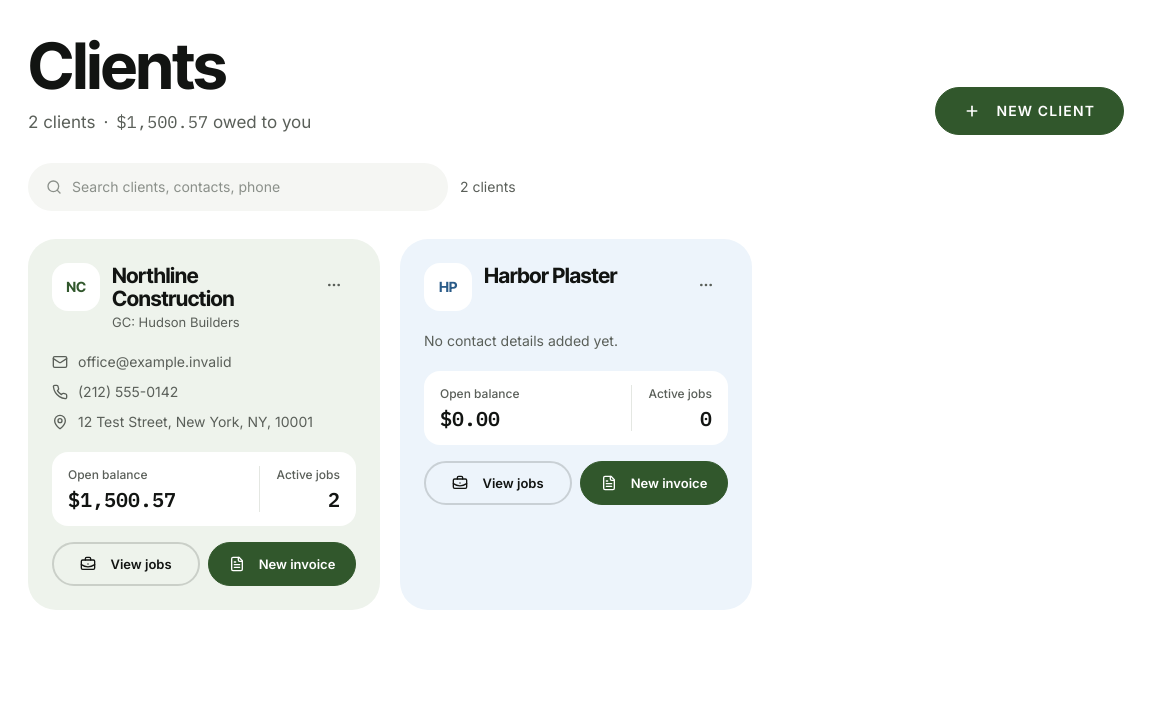
it: Clients redesign › prefills edit, keeps field errors and edits on save failure, then persists the correction
This screenshot has width=1152, height=720.
Expected: the element with test id "row-client-client-1" is shown, x1=28 y1=239 x2=380 y2=610
Click the button named "Actions for Northline Construction" at (334, 285), box x1=312 y1=263 x2=356 y2=307
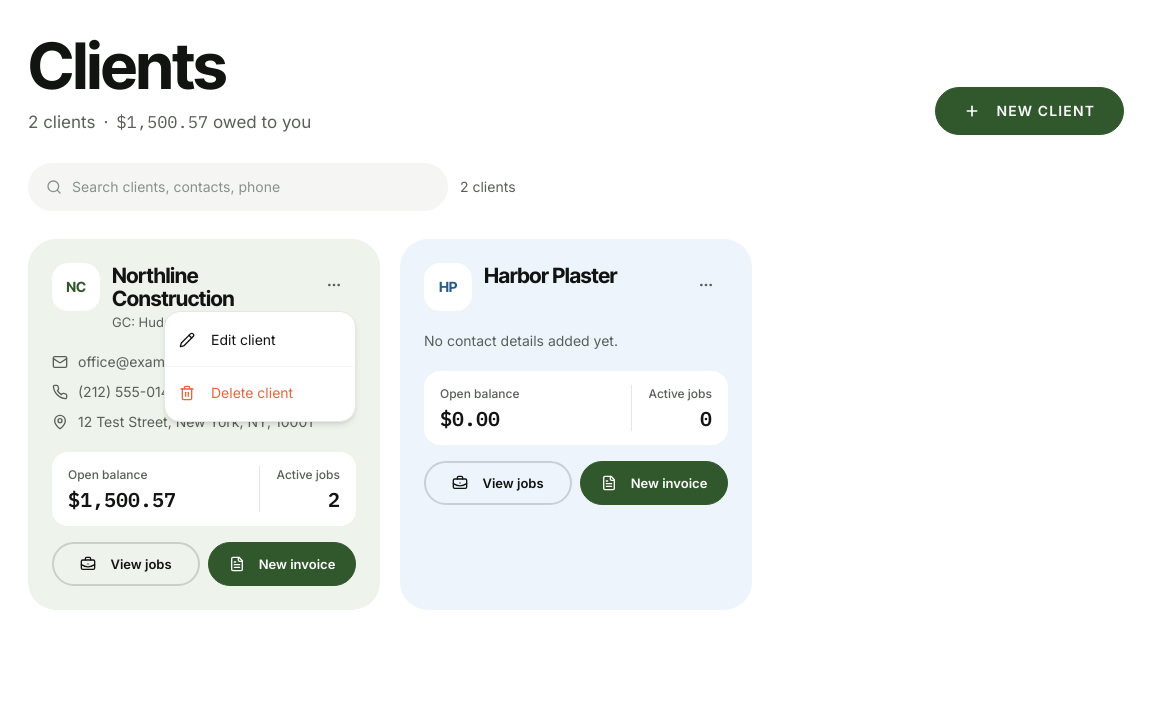
Click the menu item with test id "button-edit-client-client-1" at (227, 340), box x1=179 y1=331 x2=276 y2=348
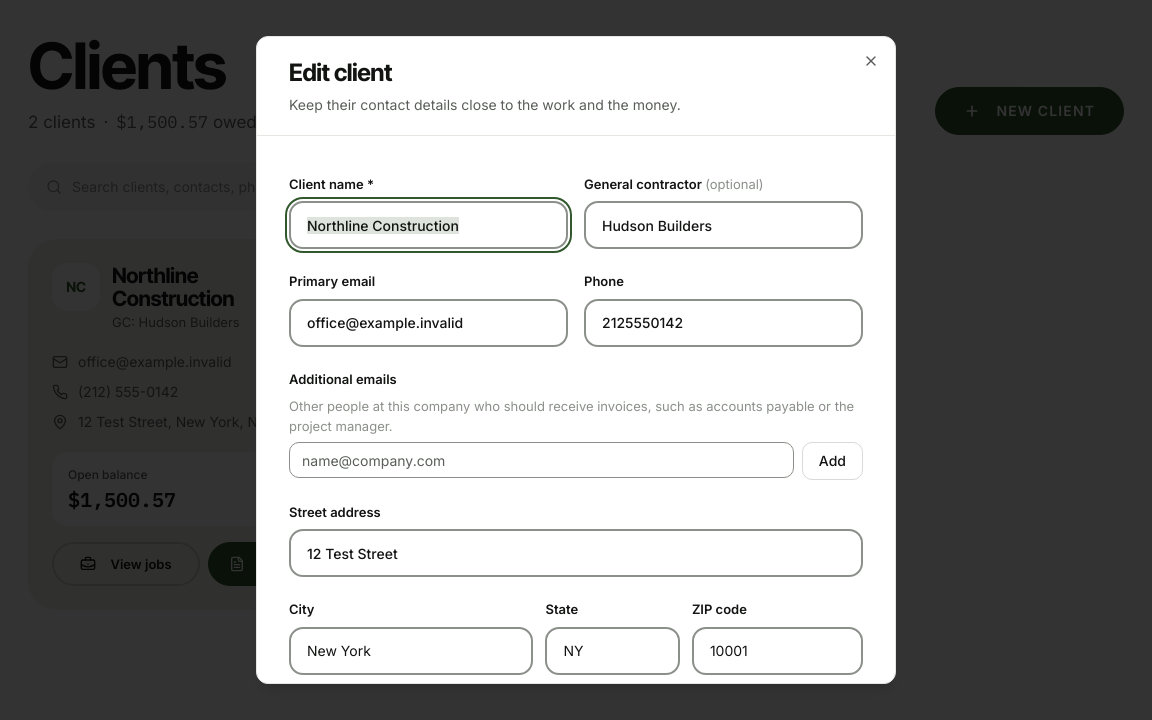
Result: the field with test id "input-client-name" holds "Northline Construction"
Replace the text in the field with test id "input-client-name" with "Northline Updated" at (428, 225), box x1=289 y1=201 x2=568 y2=249
(page scrolled)
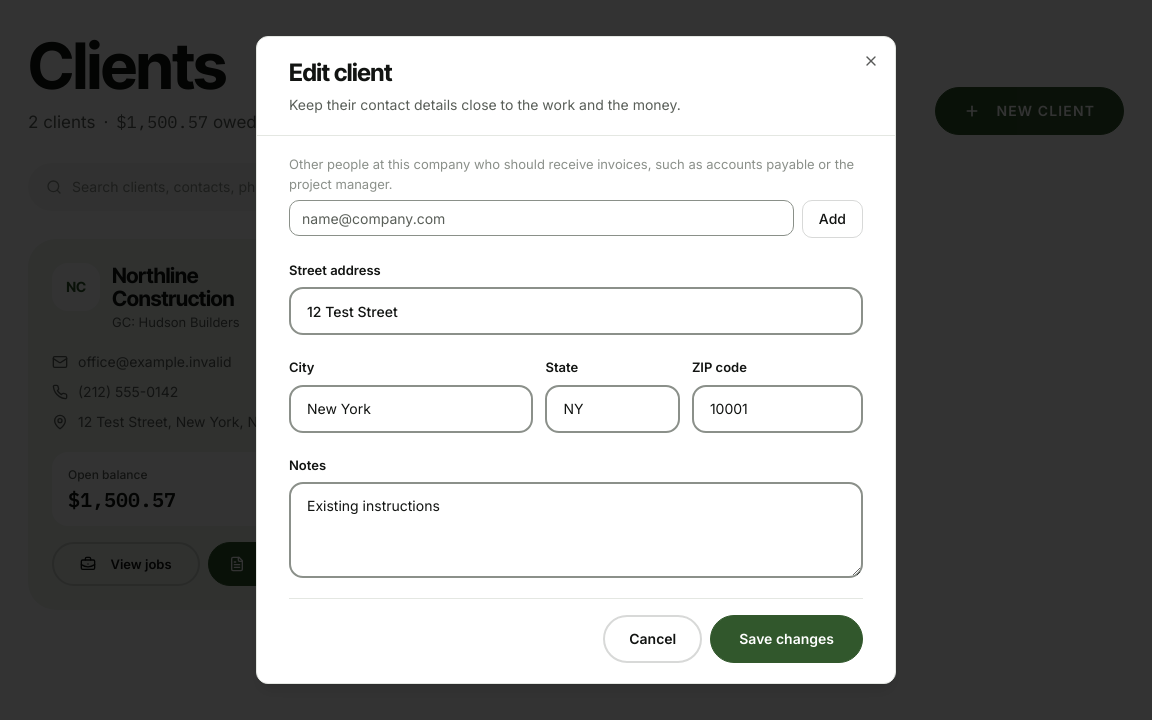
Click the button with test id "button-save-client" at (787, 639), box x1=710 y1=615 x2=863 y2=663
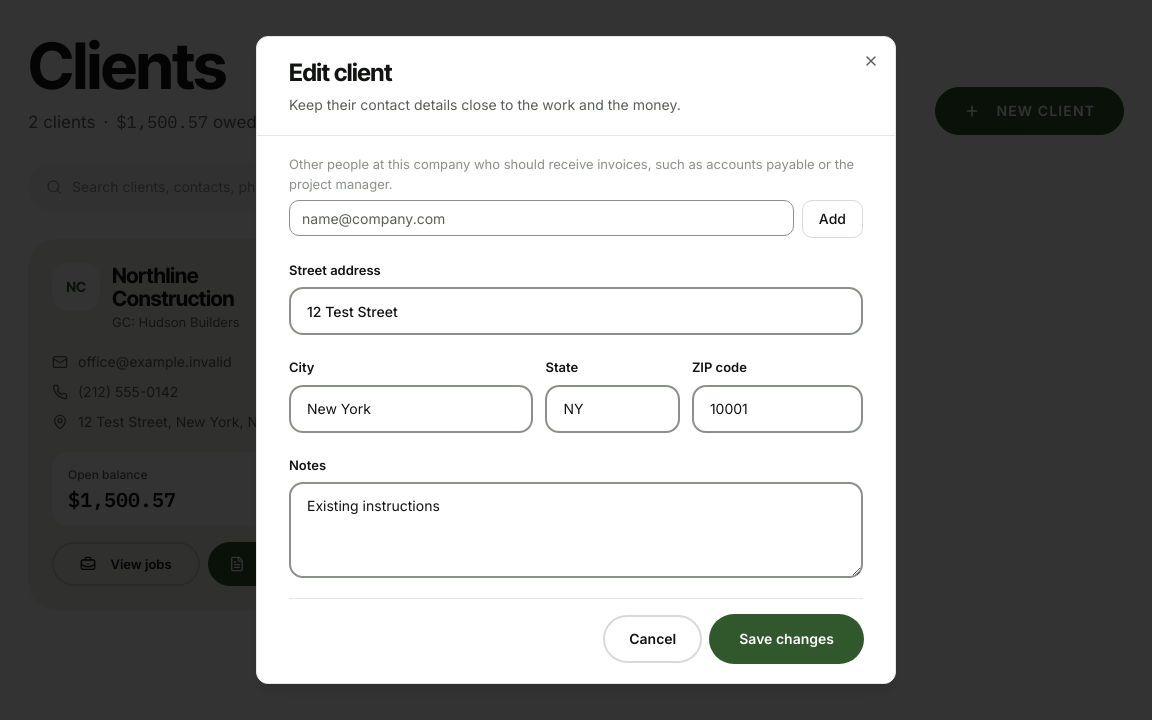
Click the button with test id "button-save-client" at (787, 639), box x1=710 y1=615 x2=863 y2=663
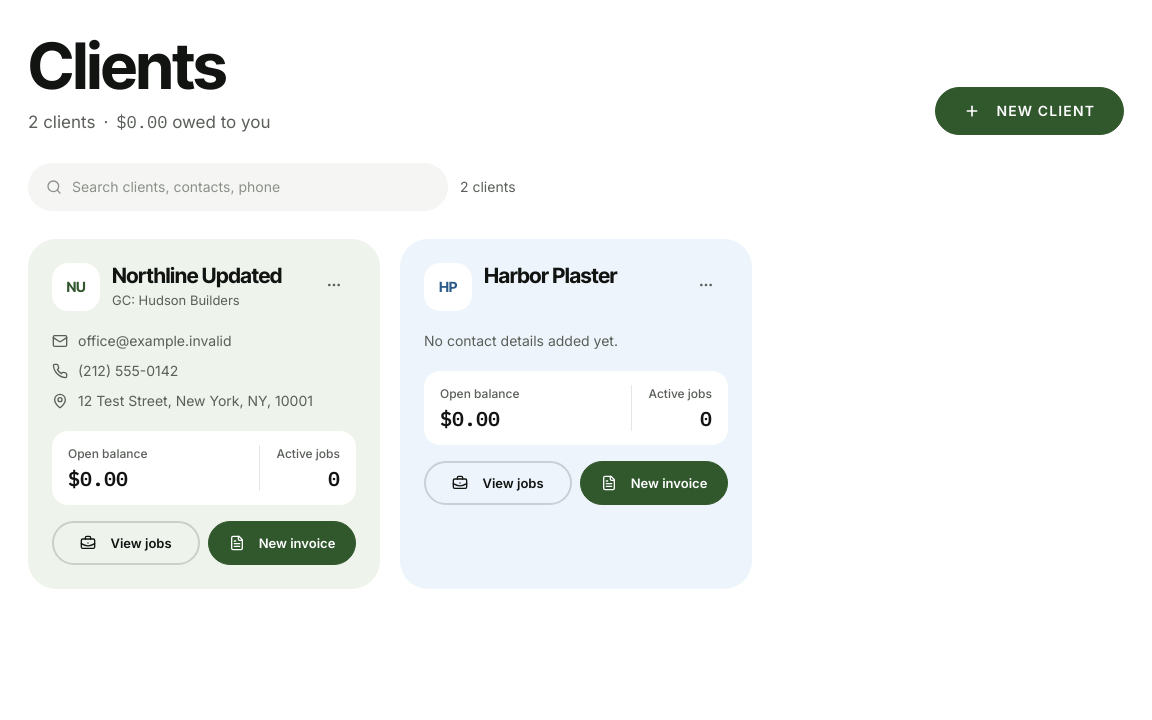
Result: the element with test id "row-client-client-1" shows "Northline Updated" at x1=112 y1=263 x2=282 y2=288
